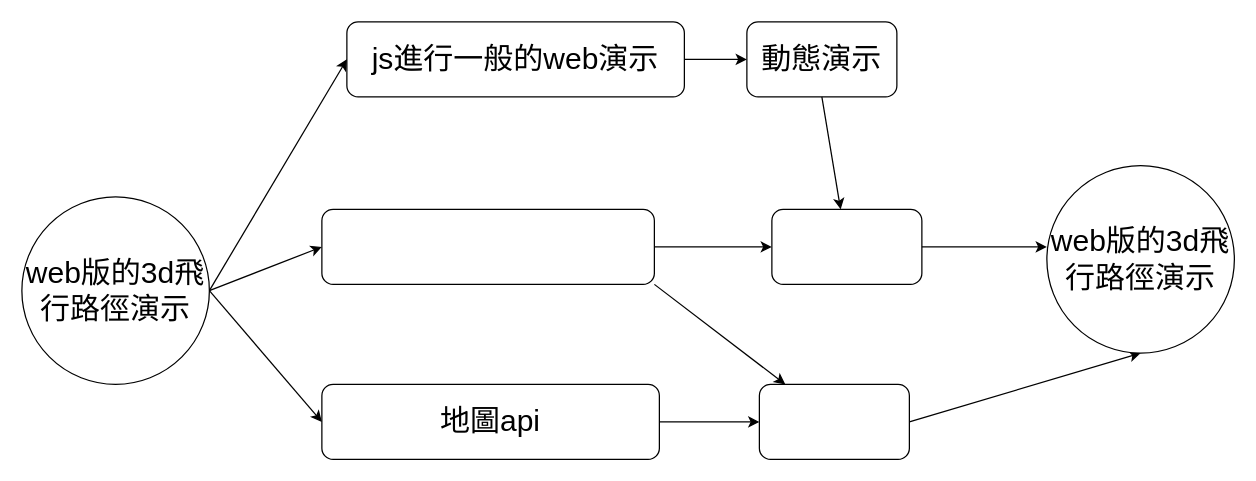
This 1256x481 diagram has some shape labels left out. The shapes that lost their labels are listed below. From the top down, each one's box as (x1, y1, x2, y2) in pixels, then its label:
(321, 208, 654, 284): 3d模型彩現
(771, 208, 922, 284): web版的3d演示
(758, 383, 909, 459): 3d路徑演示的檔案
